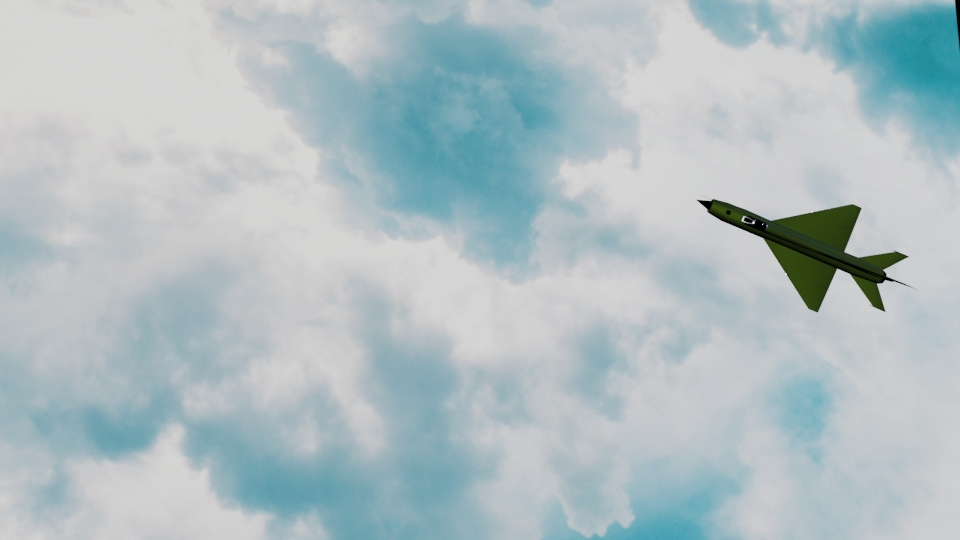plane: (693, 193, 911, 312)
